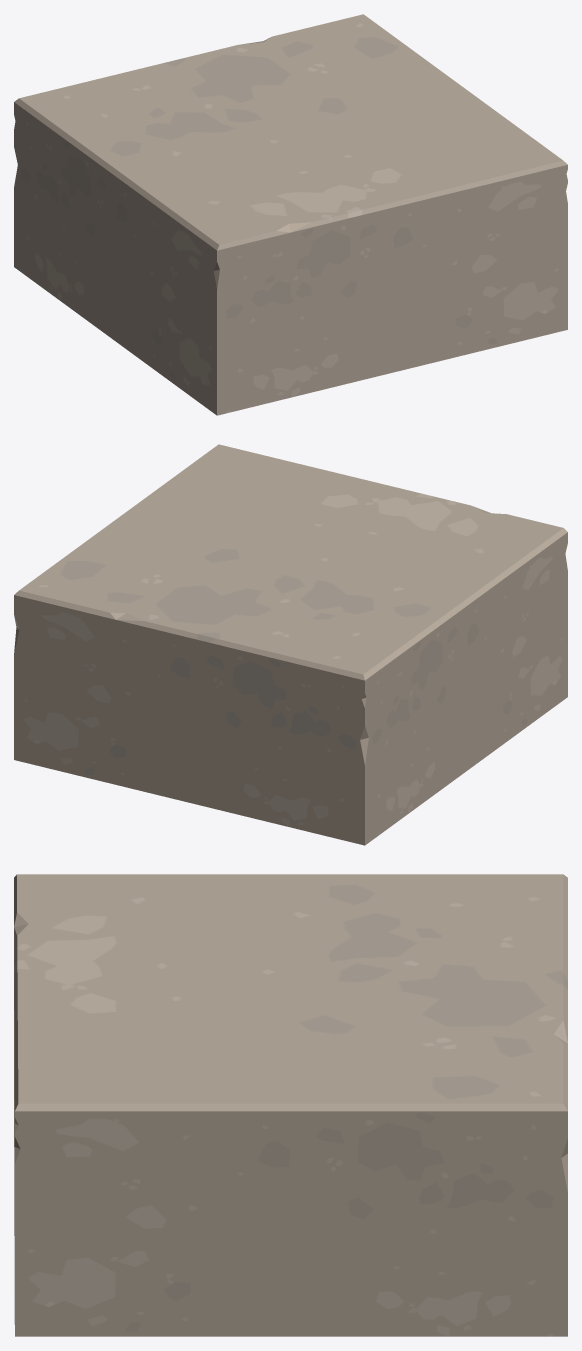
File: SM_Bld_Village_House_Plinth_01.fbx
The picture shows the model from 3 angles, top to bottom: view 1: azimuth 30°, elevation 25°; view 2: azimuth 150°, elevation 25°; view 3: azimuth 270°, elevation 25°; orthographic projection. The views are drawn at different scales.
Parts seen in each view (by area): view 1: SM_Bld_Village_House_Plinth_01; view 2: SM_Bld_Village_House_Plinth_01; view 3: SM_Bld_Village_House_Plinth_01.
Part boxes in pixels (<box>): SM_Bld_Village_House_Plinth_01: <box>14,14,567,415</box>; SM_Bld_Village_House_Plinth_01: <box>14,444,567,845</box>; SM_Bld_Village_House_Plinth_01: <box>14,874,567,1336</box>.
Bounding box in the file's own units: 1025 × 472 × 1026.
